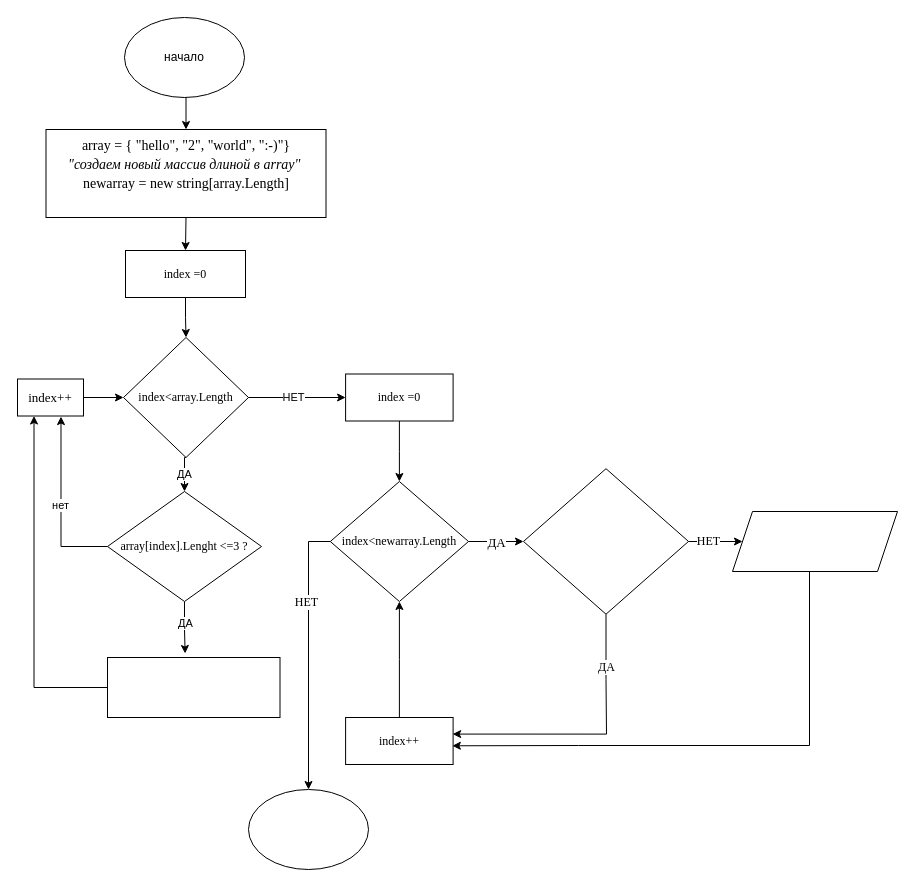
This 915x887 diagram has some shape labels left out. The shapes that lost their labels are listed below. From the top down, each one's box as (x1, y1, x2, y2) in pixels, then its label:
(522, 468, 688, 614): newarray[index] = string.Empty? проверка на пустое значение ячейки массива
(732, 510, 898, 572): print(newarray[index])
(106, 656, 280, 718): newarray [index] = array[index]
(248, 788, 368, 870): конец
